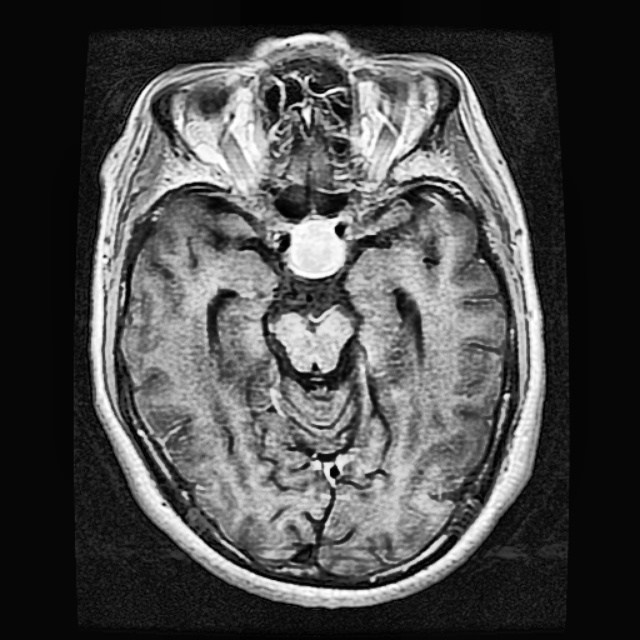Pituitary: (288, 220, 347, 277)
